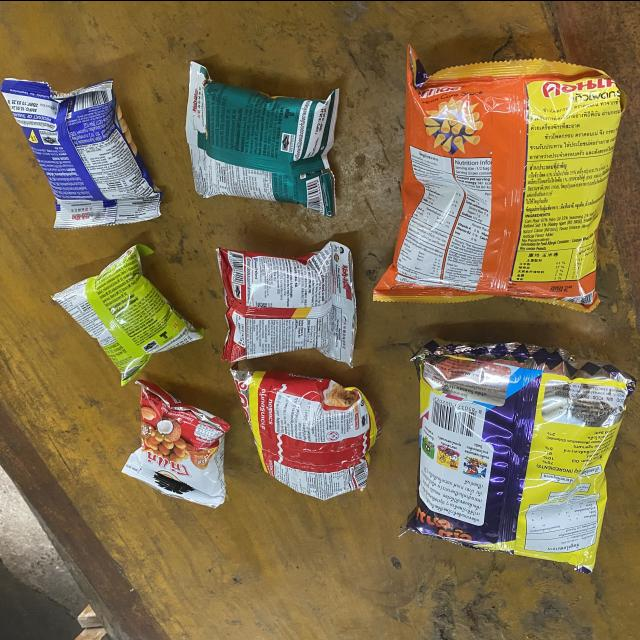plastik: (374, 48, 622, 310), (404, 342, 634, 572), (0, 77, 162, 228), (186, 61, 339, 216), (52, 244, 203, 384), (230, 367, 380, 498), (217, 240, 356, 365), (122, 379, 230, 507)
